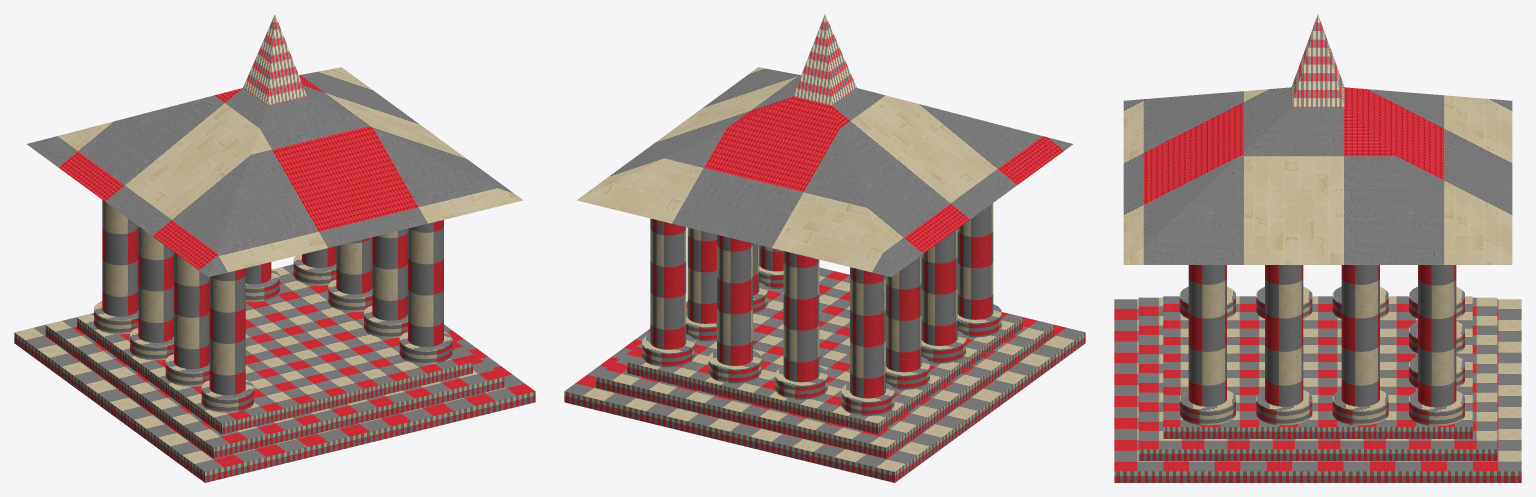
The model's file is temple.obj.
3 views of the same model, side by side, from view 1: azimuth 30°, elevation 25°; view 2: azimuth 150°, elevation 25°; view 3: azimuth 270°, elevation 25° (orthographic). The views are drawn at different scales.
Parts seen in each view (by area): view 1: Roof, Box003, Box006, Box005, Cylinder009, Cylinder019, Cylinder013, Cylinder012, Cylinder011, Cylinder017, Cylinder018, Cylinder029 (+9 smaller); view 2: Roof, Box003, Box006, Box005, Cylinder016, Cylinder014, Cylinder013, Cylinder015, Cylinder009, Cylinder011, Cylinder012, Cylinder018 (+9 smaller); view 3: Roof, Box003, Box006, Box005, Cylinder016, Cylinder017, Cylinder018, Cylinder019, Cylinder027, Cylinder028, Cylinder029, Cylinder026 (+6 smaller).
Part boxes in pixels (x1,y1,x2,y2): Roof: (27,14,522,277); Box003: (77,264,472,434); Box006: (14,264,535,482); Box005: (45,264,504,458); Cylinder009: (209,268,245,395); Cylinder019: (408,220,443,346); Cylinder013: (102,200,138,316); Cylinder012: (138,226,173,342); Cylinder011: (174,252,209,369); Cylinder017: (372,228,407,320); Cylinder018: (336,237,372,294); Cylinder029: (399,331,452,364); Roof: (577,14,1072,277); Box003: (627,268,1022,434); Box006: (564,267,1085,482); Box005: (595,267,1054,458); Cylinder016: (650,218,686,349); Cylinder014: (783,251,819,382); Cylinder013: (850,267,885,398); Cylinder015: (717,234,752,365); Cylinder009: (957,203,993,319); Cylinder011: (921,229,957,345); Cylinder012: (886,255,921,372); Cylinder018: (687,227,716,323); Roof: (1123,14,1512,264); Box003: (1163,296,1472,438); Box006: (1114,299,1521,482); Box005: (1138,297,1497,460); Cylinder016: (1418,265,1456,407); Cylinder017: (1265,265,1303,406); Cylinder018: (1341,265,1379,406); Cylinder019: (1188,265,1226,406); Cylinder027: (1256,390,1312,425); Cylinder028: (1332,390,1388,425); Cylinder029: (1180,390,1235,425); Cylinder026: (1409,390,1464,426).
Bounding box in the file's own units: 124 × 128 × 124.
Materials: 4 (4 with a texture image).
